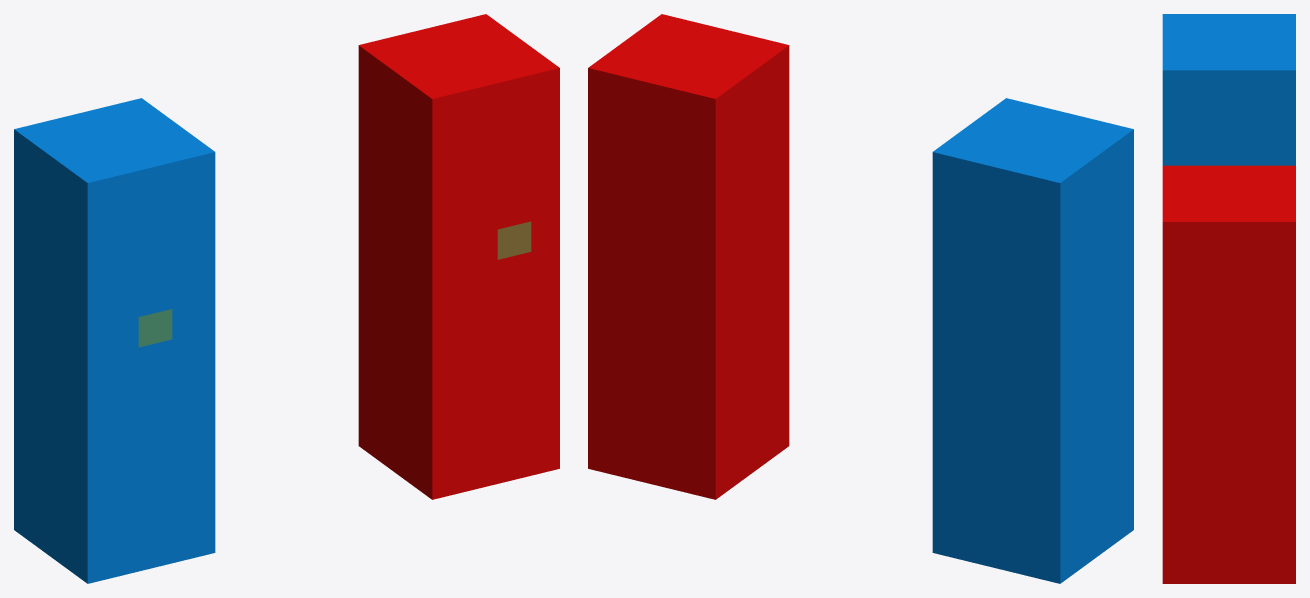
Rendered from Buildings.fbx.
The picture shows the model from 3 angles, left to right: view 1: azimuth 30°, elevation 25°; view 2: azimuth 150°, elevation 25°; view 3: azimuth 270°, elevation 25°; orthographic projection. The views are drawn at different scales.
Visible parts, largest first — view 1: pCube3, pCube4; view 2: pCube3, pCube4; view 3: pCube4, pCube3.
Boxes of the visible parts, <box> form: pCube3: <box>14,98,215,583</box>; pCube4: <box>358,14,559,499</box>; pCube3: <box>932,98,1133,583</box>; pCube4: <box>588,14,789,499</box>; pCube4: <box>1162,165,1295,583</box>; pCube3: <box>1162,14,1295,165</box>.
Size of the model in its own units: 73.97 by 60 by 20.11.
